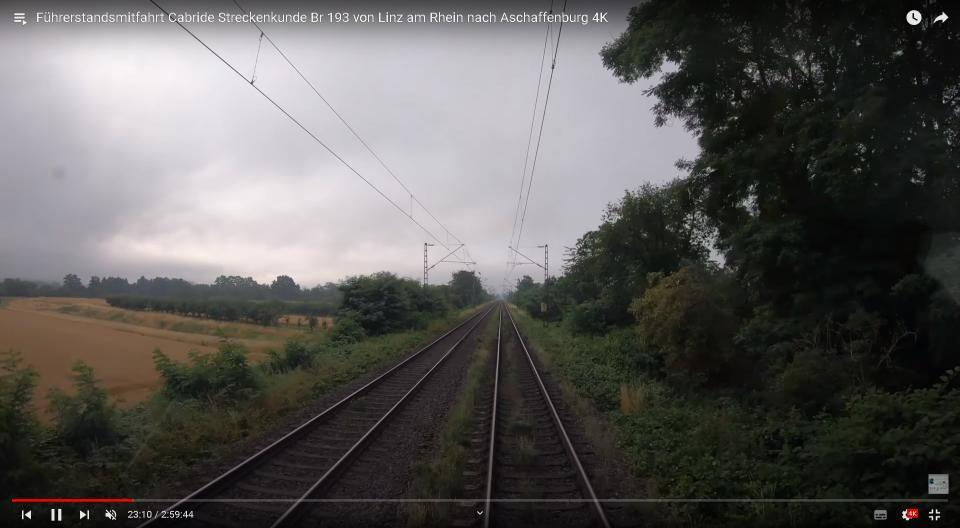Plant: (508, 306, 775, 499), (407, 310, 497, 499), (501, 339, 538, 465), (672, 503, 787, 528), (405, 504, 450, 528), (349, 396, 367, 411)
